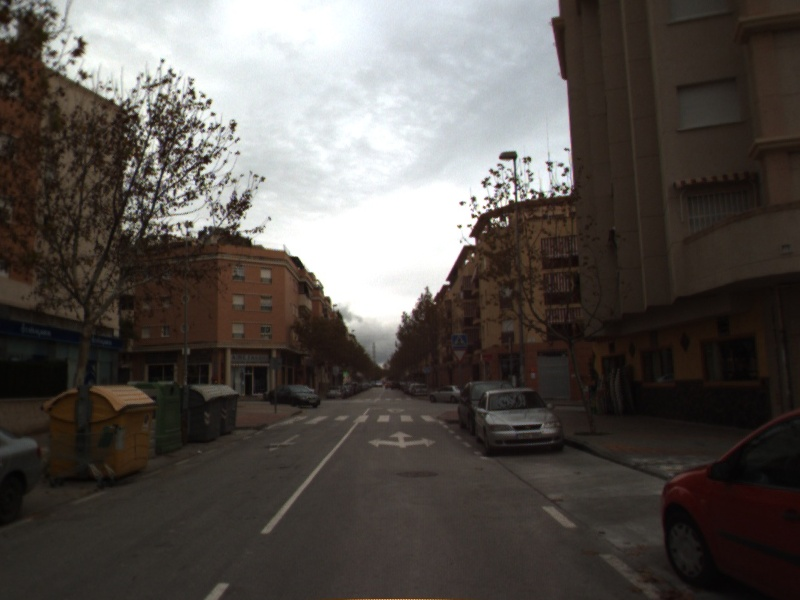STRAIGHT_LEFT_RIGHT: (366, 428, 438, 450)
